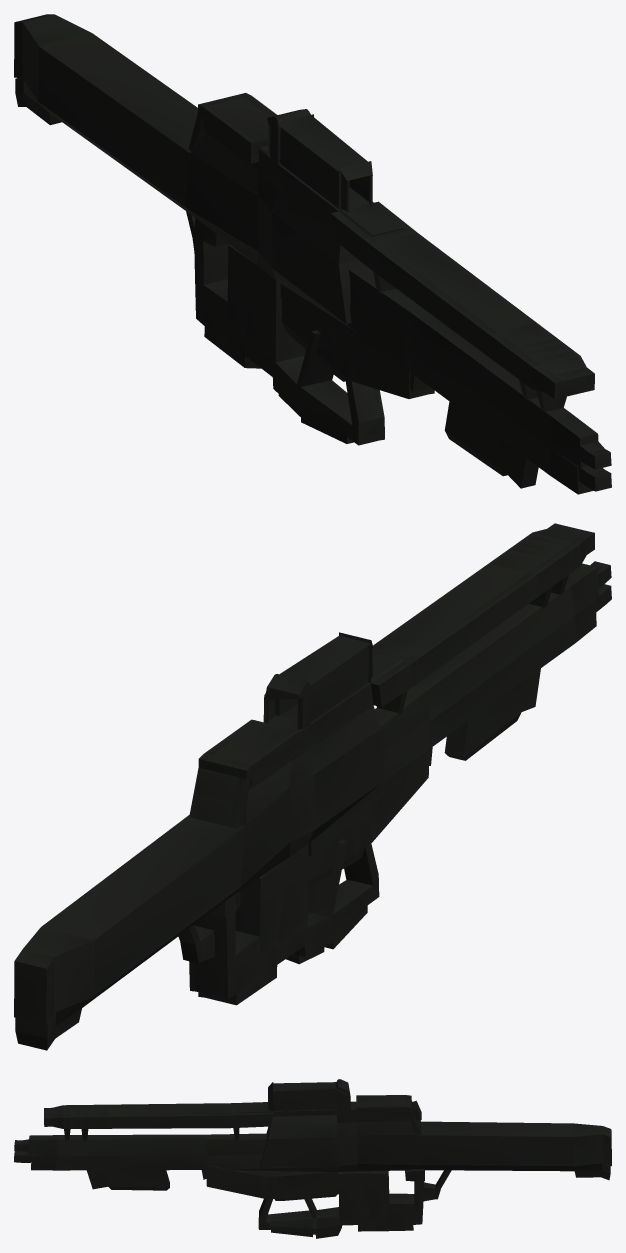
Rendered from gun.glb.
3 views of the same model, one above another, from view 1: azimuth 30°, elevation 25°; view 2: azimuth 150°, elevation 25°; view 3: azimuth 270°, elevation 25° (orthographic). The views are drawn at different scales.
Visible parts, largest first — view 1: Cube; view 2: Cube; view 3: Cube.
Boxes of the visible parts, bbox=[...] form: Cube: bbox=[14, 14, 611, 494]; Cube: bbox=[14, 523, 611, 1050]; Cube: bbox=[14, 1079, 611, 1238].
Size of the model in its own units: 0.2659 by 1.37 by 4.93.
1 material, 1 textured.
